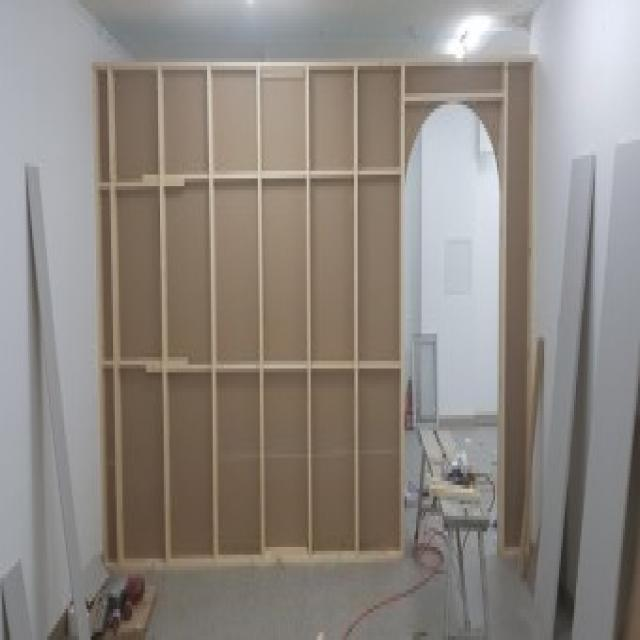board: (570, 136, 640, 640), (530, 153, 596, 640), (27, 165, 92, 640), (0, 558, 32, 640)
stud: (94, 55, 406, 570)
